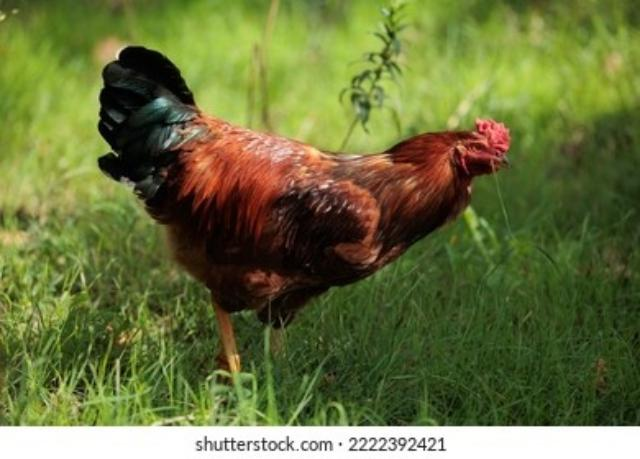Chicken: (98, 45, 510, 371)
